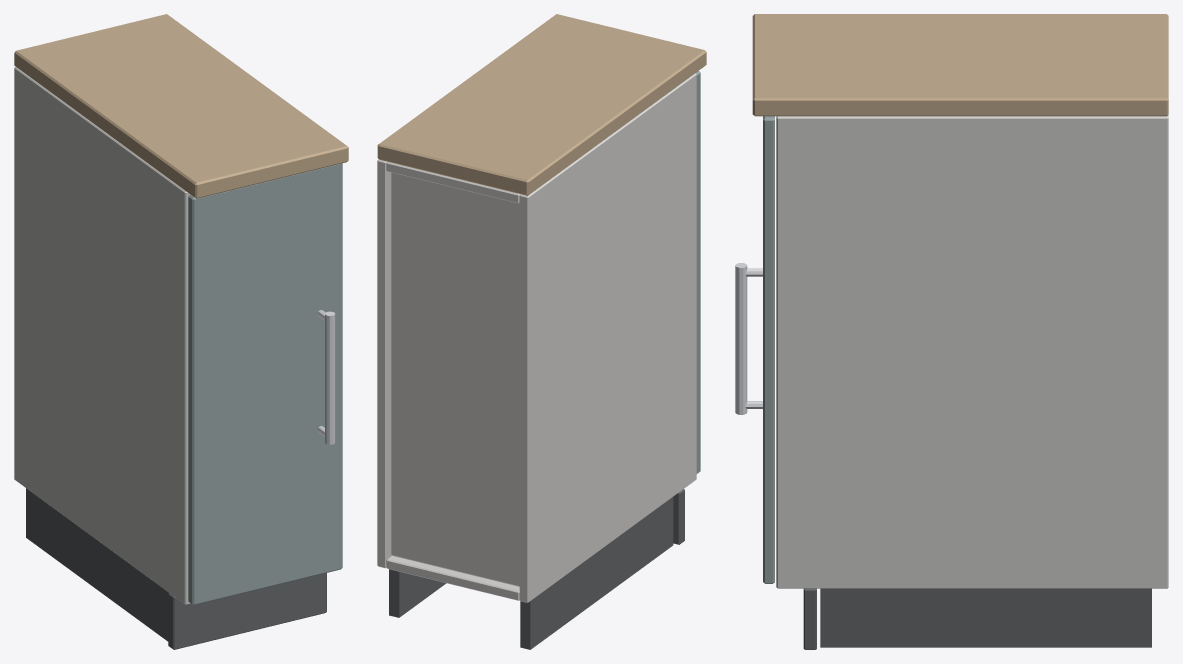
The model's file is fitted-kitchen-and-bathroom-builder-base-300-add8ace1__17803.glb.
3 renders of one model, left to right at view 1: azimuth 30°, elevation 25°; view 2: azimuth 150°, elevation 25°; view 3: azimuth 270°, elevation 25°, orthographic. The views are drawn at different scales.
Visible parts, largest first — view 1: base-300, door-left/front, door-left/metal; view 2: base-300, door-left/front; view 3: base-300, door-left/front, door-left/metal.
Part boxes in pixels (x1,y1,x2,y2): base-300: [14, 14, 348, 649]; door-left/front: [188, 163, 342, 605]; door-left/metal: [317, 310, 335, 444]; base-300: [377, 14, 706, 649]; door-left/front: [695, 71, 700, 473]; base-300: [752, 14, 1168, 649]; door-left/front: [763, 116, 774, 583]; door-left/metal: [735, 263, 762, 414].
Size of the model in its own units: 0.3 by 0.9 by 0.641.
